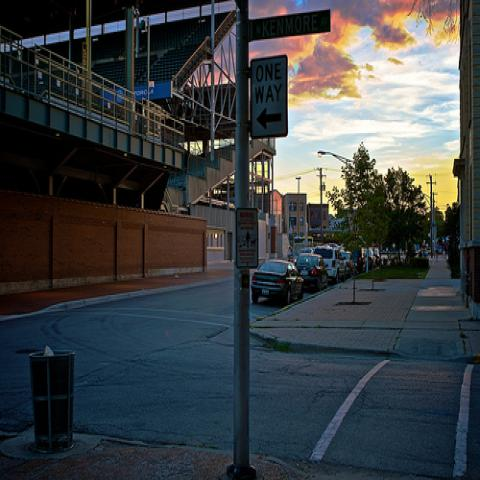car: (250, 258, 304, 305), (312, 245, 346, 285), (294, 253, 328, 291), (361, 246, 377, 271), (342, 253, 354, 278), (374, 246, 380, 268)
